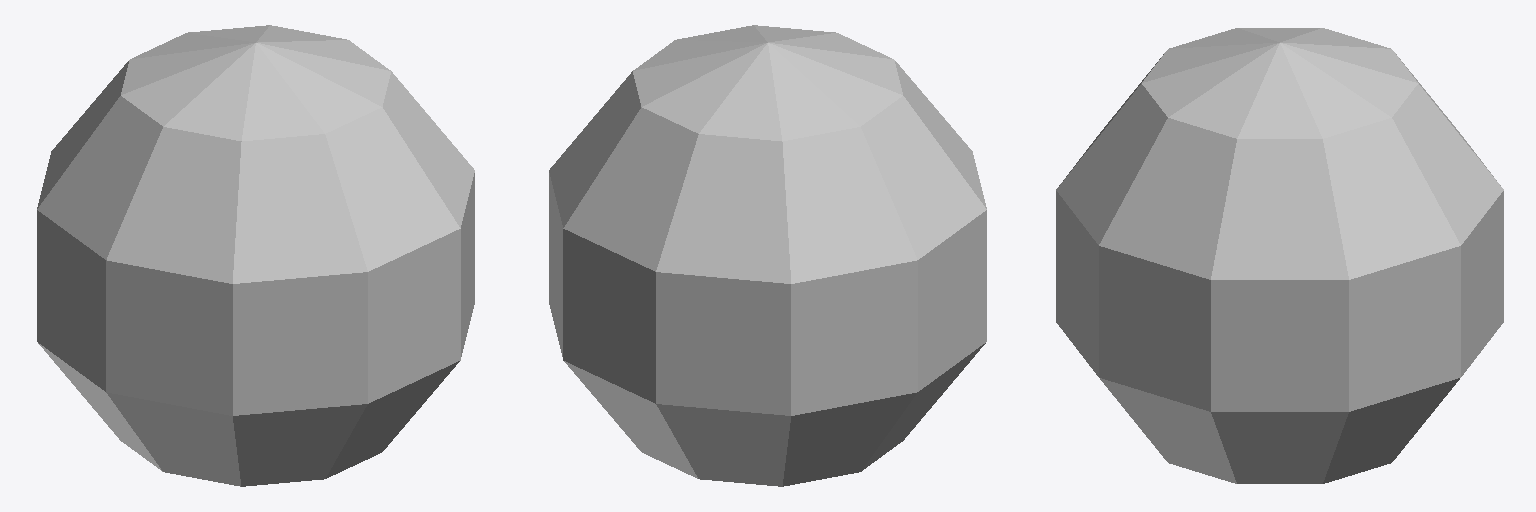
Rendered from player.obj.
3 renders of one model, left to right at view 1: azimuth 30°, elevation 25°; view 2: azimuth 150°, elevation 25°; view 3: azimuth 270°, elevation 25°, orthographic.
Parts seen in each view (by area): view 1: Sphere_Sphere.001; view 2: Sphere_Sphere.001; view 3: Sphere_Sphere.001.
Boxes of the visible parts, x1=… form: Sphere_Sphere.001: x1=37, y1=25, x2=474, y2=486; Sphere_Sphere.001: x1=549, y1=25, x2=986, y2=486; Sphere_Sphere.001: x1=1056, y1=28, x2=1503, y2=483.
Bounding box in the file's own units: 0.4523 × 0.5 × 0.4755.